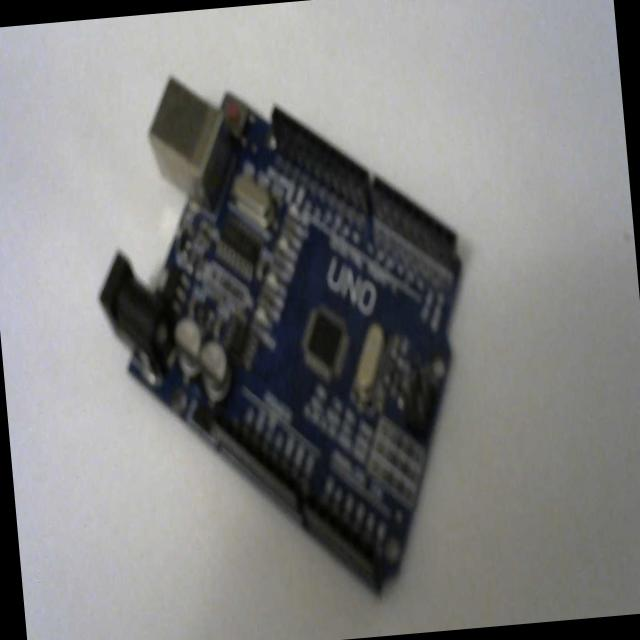arduino: (66, 36, 502, 624)
